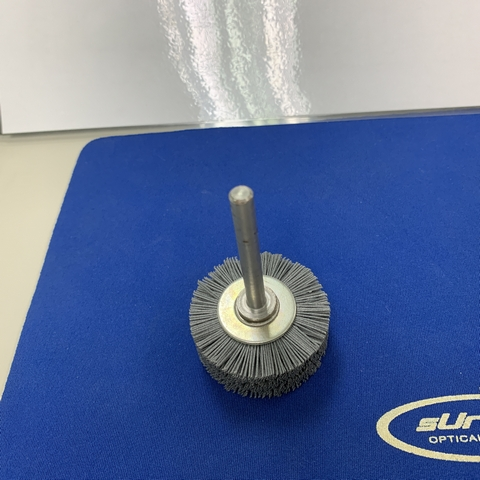Wheel Brush: (164, 192, 341, 392), (187, 160, 326, 399), (185, 177, 339, 376)
